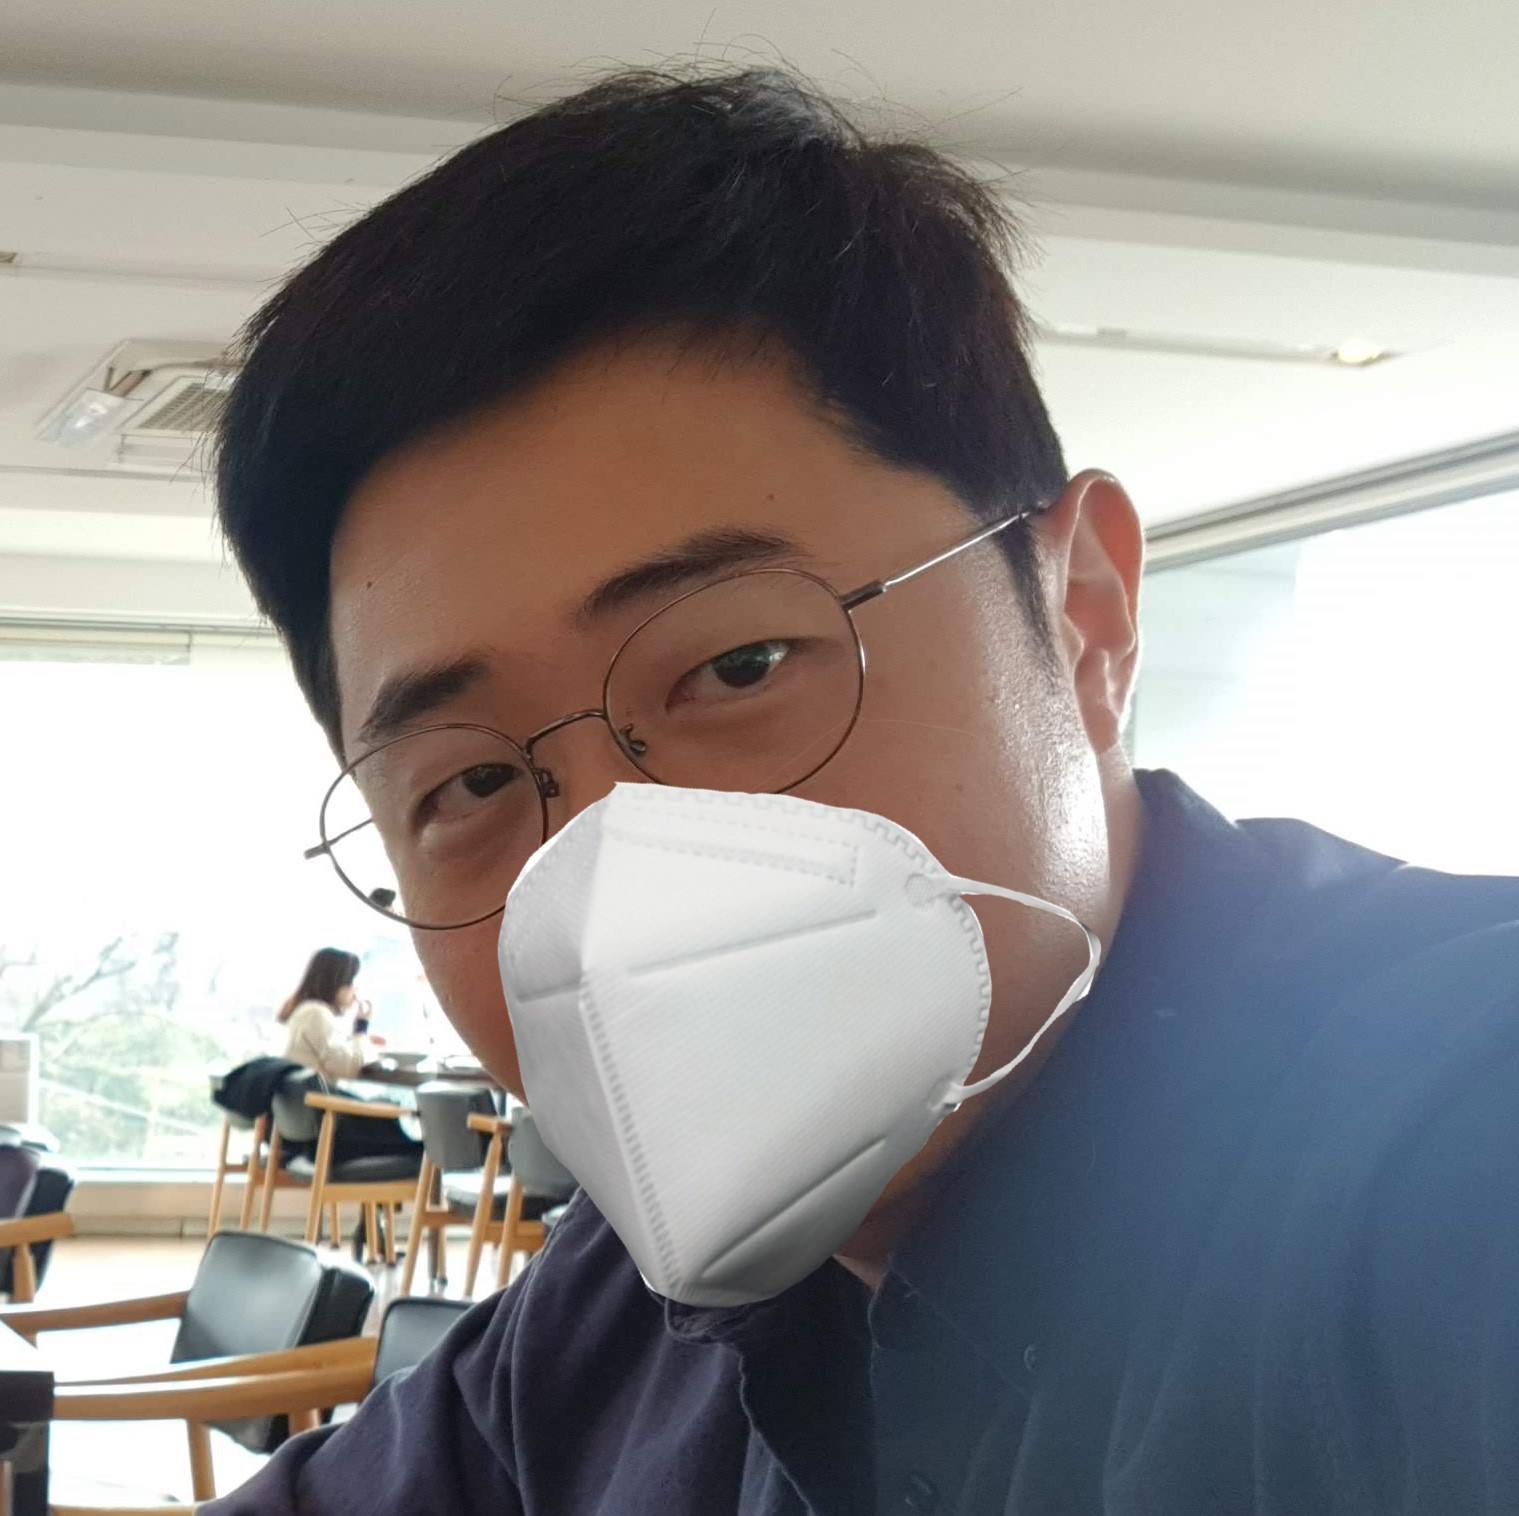mask: (328, 368, 1058, 1197)
